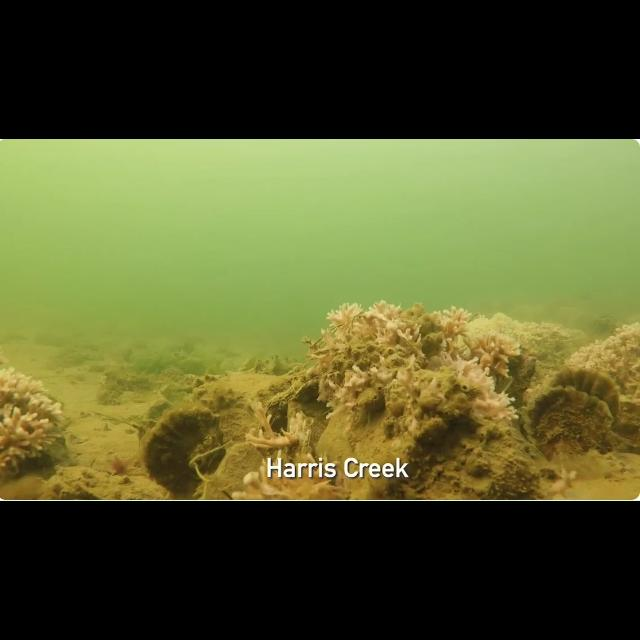Oyster-Closed: (136, 403, 228, 495), (525, 387, 625, 461), (458, 428, 548, 502), (307, 338, 417, 374), (74, 466, 176, 502), (550, 360, 634, 398), (248, 384, 302, 440), (208, 439, 272, 486), (410, 416, 464, 454), (294, 376, 328, 404), (290, 428, 320, 458), (349, 389, 386, 413), (95, 379, 119, 405), (180, 358, 206, 380), (118, 372, 146, 390), (220, 356, 247, 374), (118, 346, 136, 362), (128, 340, 150, 352), (240, 358, 256, 374), (159, 382, 175, 398)
